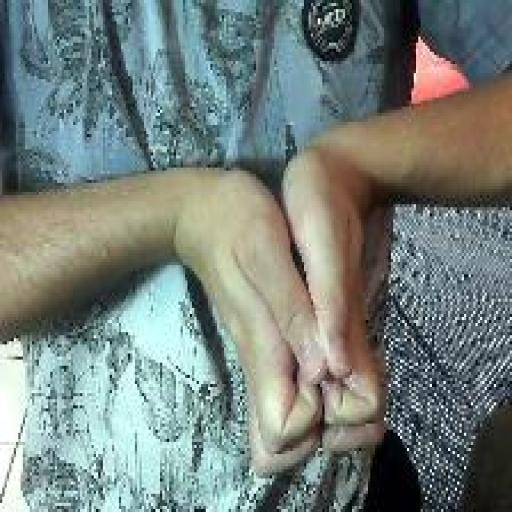I -boar-: (194, 145, 391, 480)
